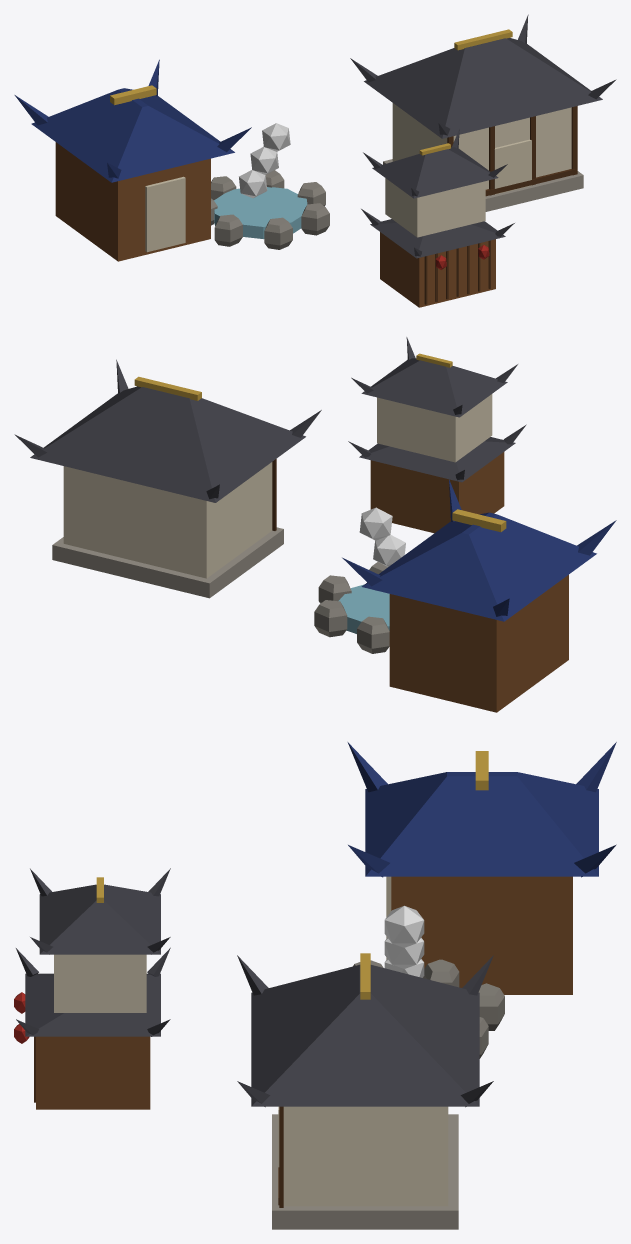
Rendered from macaque_compound.glb.
3 renders of one model, top to bottom at view 1: azimuth 30°, elevation 25°; view 2: azimuth 150°, elevation 25°; view 3: azimuth 270°, elevation 25°, orthographic. The views are drawn at different scales.
Visible parts, largest first — view 1: macaque_compound; view 2: macaque_compound; view 3: macaque_compound.
Part boxes in pixels (left/top/right/bottom): macaque_compound: left=14, top=14, right=616, bottom=307; macaque_compound: left=14, top=337, right=616, bottom=712; macaque_compound: left=14, top=742, right=616, bottom=1229.
Bounding box in the file's own units: 6.09 × 1.78 × 4.65.
